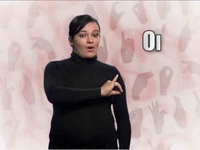oi: (96, 76, 124, 95)
